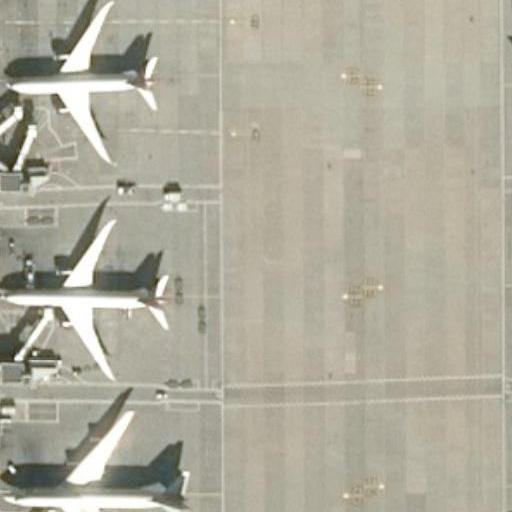Aircraft: (8, 211, 168, 376), (9, 0, 166, 162), (4, 413, 191, 512), (501, 0, 512, 170)
